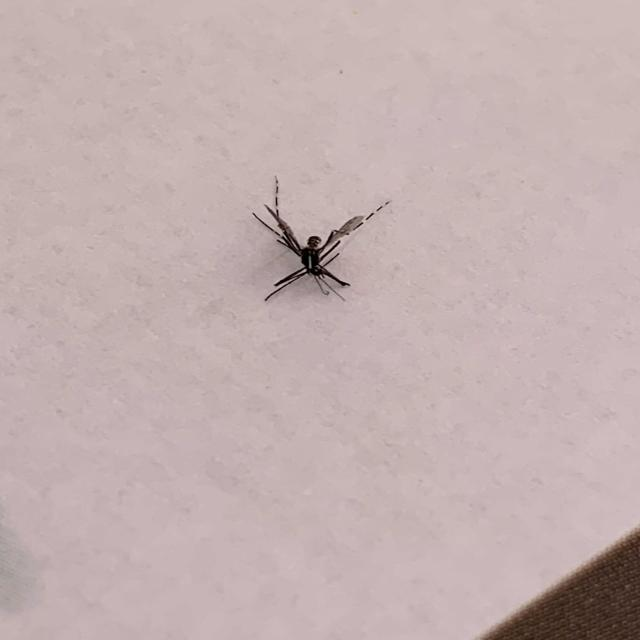albopictus: (240, 170, 389, 306)
